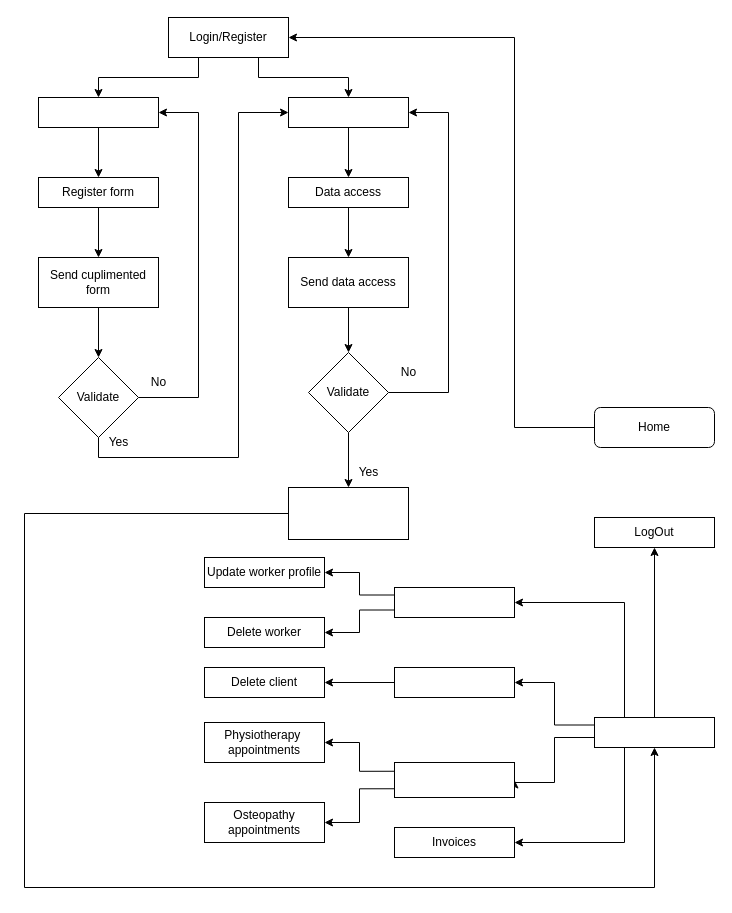
Some shapes in this 732 by 913 pixel diagram are drawn without their labels. The shapes that lost their labels are listed below. From the top down, each one's centre as x and y in pixels, then its label:
At [98,112]: "Register".
At [348,112]: "Login".
At [348,513]: "Access (token acquisition)".
At [454,602]: "Manage workers".
At [454,682]: "Manage client".
At [654,732]: "Profile".
At [454,780]: "Appointments".
